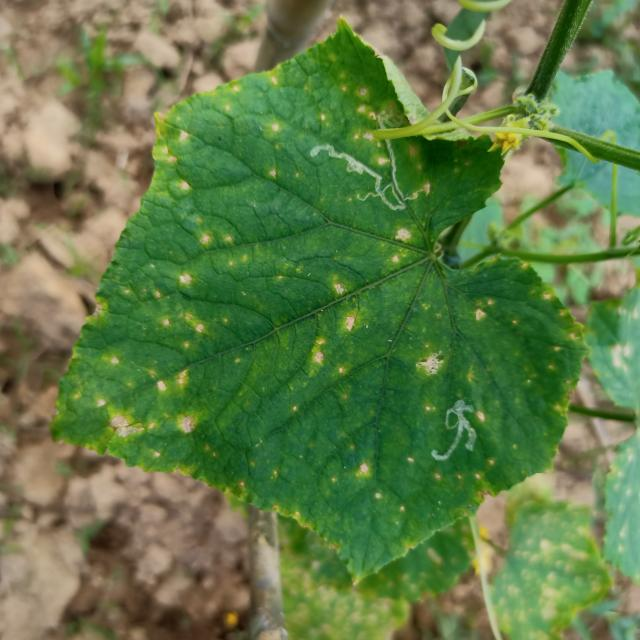disease_cucumber: (69, 133, 250, 476), (173, 47, 438, 190), (283, 226, 450, 385), (456, 262, 584, 429), (344, 432, 537, 524)
